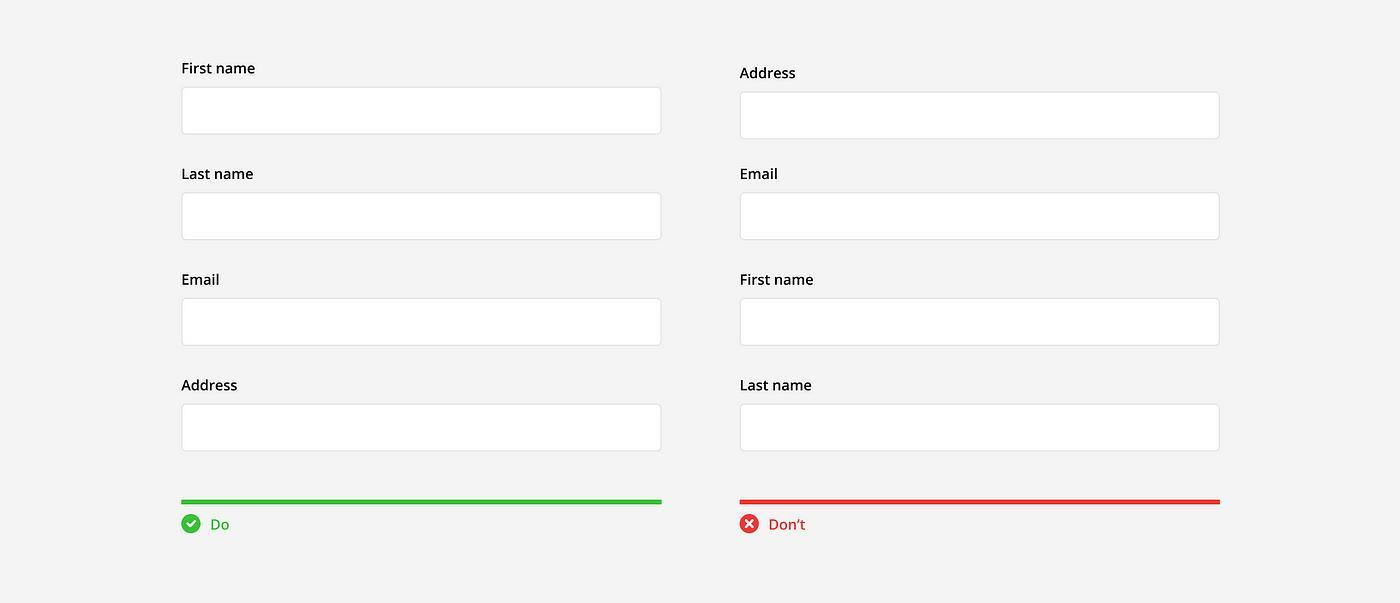input: (180, 191, 665, 244), (179, 86, 665, 137), (181, 297, 665, 348), (181, 403, 664, 454), (740, 91, 1222, 142), (738, 192, 1222, 241), (740, 403, 1223, 452), (740, 298, 1222, 347)
label: (182, 166, 256, 184), (740, 378, 816, 395), (179, 62, 259, 77), (740, 273, 816, 288), (181, 378, 241, 393), (740, 66, 799, 81), (182, 272, 223, 287), (739, 167, 781, 181)
